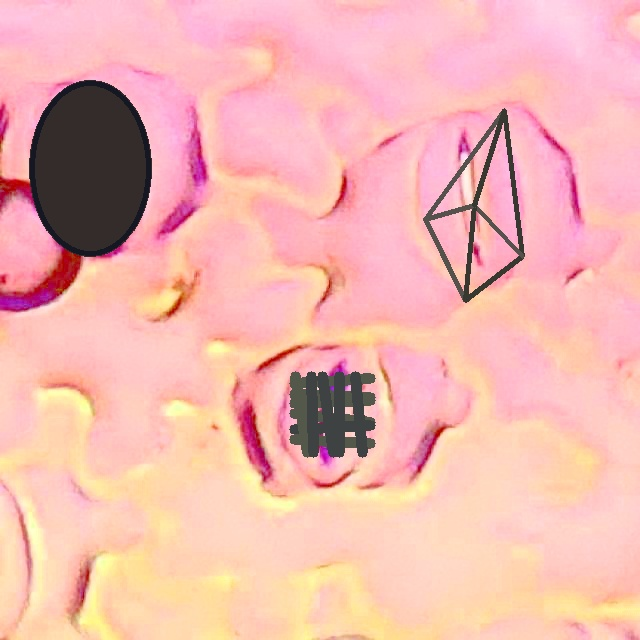close: (29, 80, 151, 255)
open: (423, 108, 524, 302), (289, 371, 374, 456)
